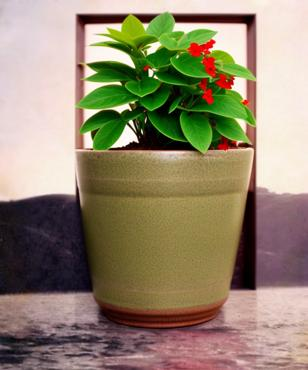pottedplant: (75, 13, 256, 329)
